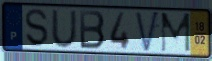4: (108, 11, 132, 52)
B: (78, 9, 106, 51)
M: (160, 12, 192, 54)
S: (24, 8, 50, 49)
U: (50, 10, 79, 50)
V: (134, 10, 161, 55)
